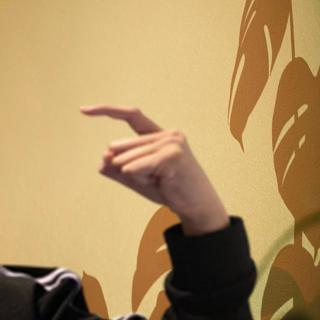WHY: (71, 96, 225, 226)
